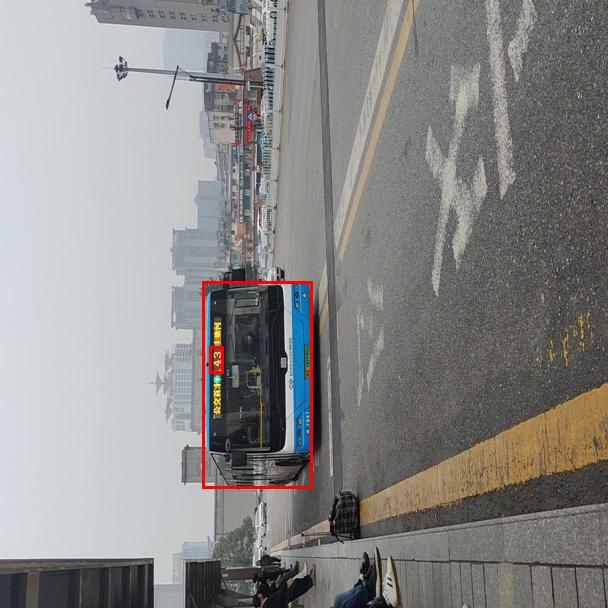bus: (202, 281, 312, 488)
screen: (209, 346, 223, 373)
